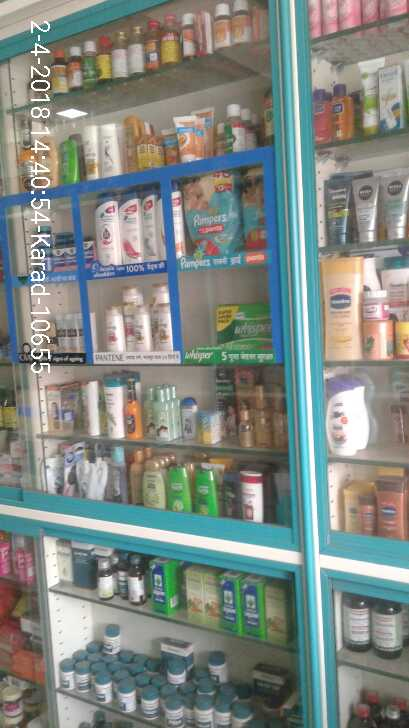vicks: (29, 217, 88, 272)
